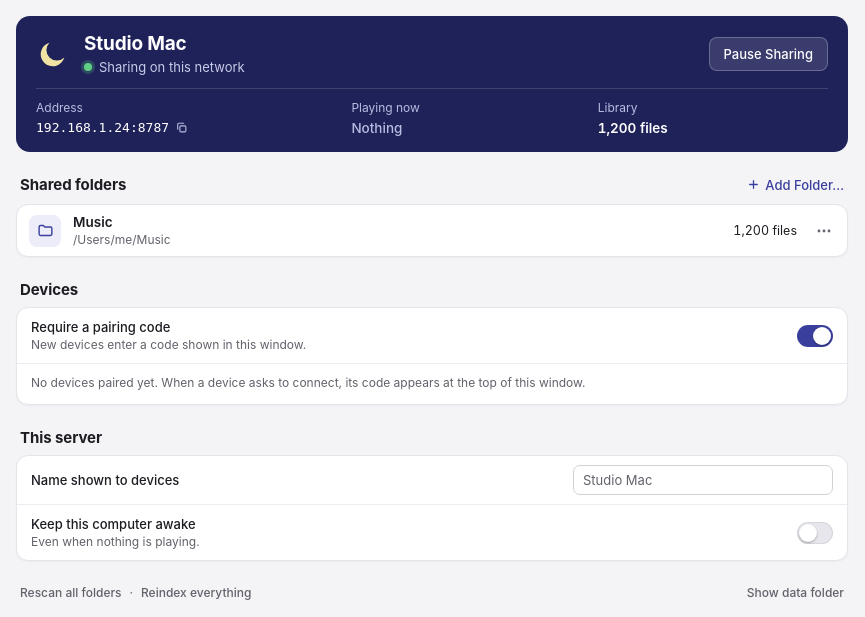
Test: name shown to devices › Enter saves, and the new name stays up while it saves
The image size is (865, 617).
Click the field labelled "Name shown to devices". click: point(703, 480)
box: [573,465,833,495]
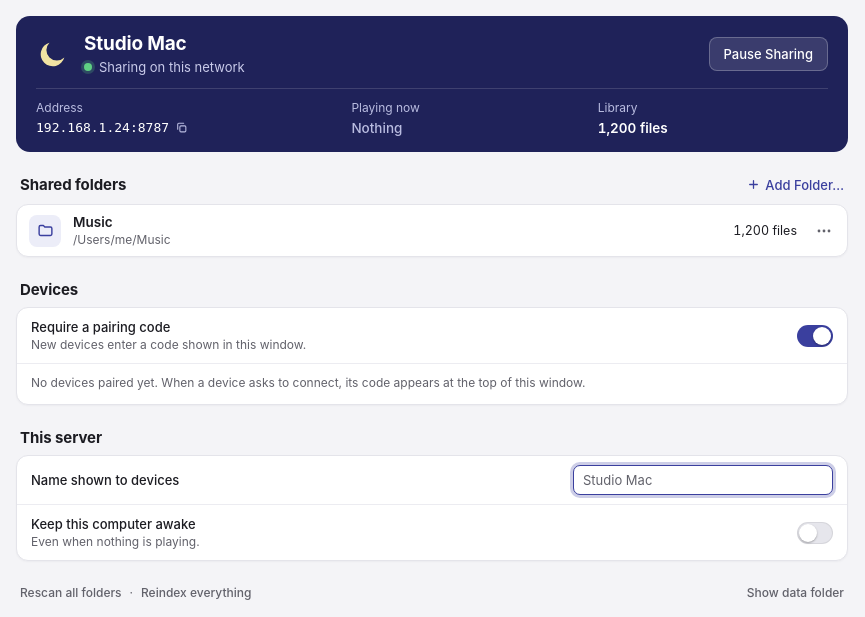
Type keys "Den{Enter}"
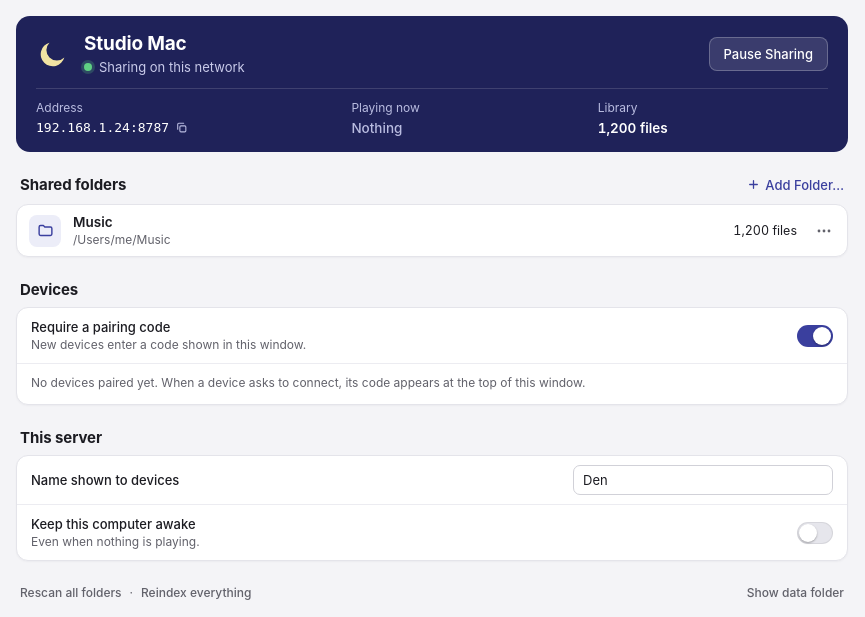
Check: the field labelled "Name shown to devices" holds "Den", box [573,465,833,495]
